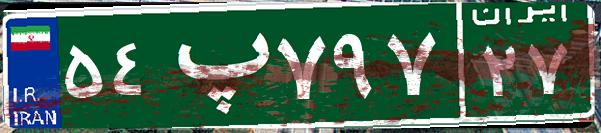2: (475, 38, 525, 113)
4: (110, 28, 158, 105)
5: (57, 26, 110, 107)
7: (385, 28, 445, 110), (273, 28, 330, 110), (525, 38, 570, 115)
9: (330, 28, 385, 110)
پ: (158, 15, 273, 115)
